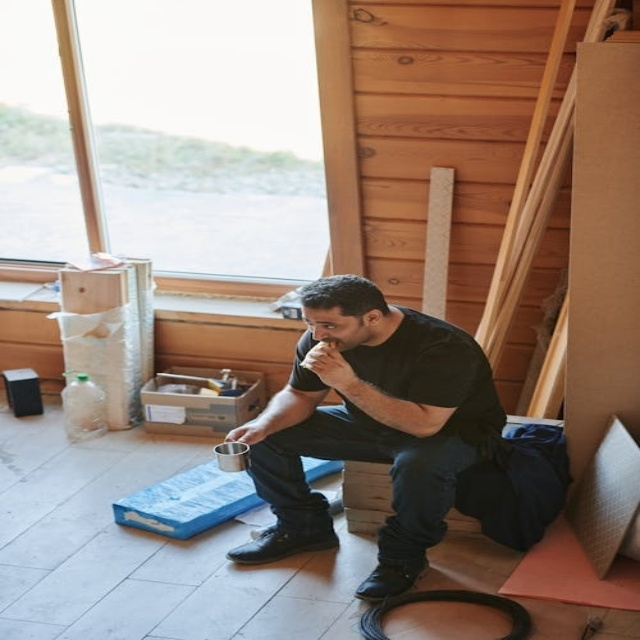Sin_gafas: (296, 317, 343, 329)
Sin_guantes: (298, 347, 357, 386), (220, 418, 271, 451)
Sin_mascara: (312, 335, 344, 350)
